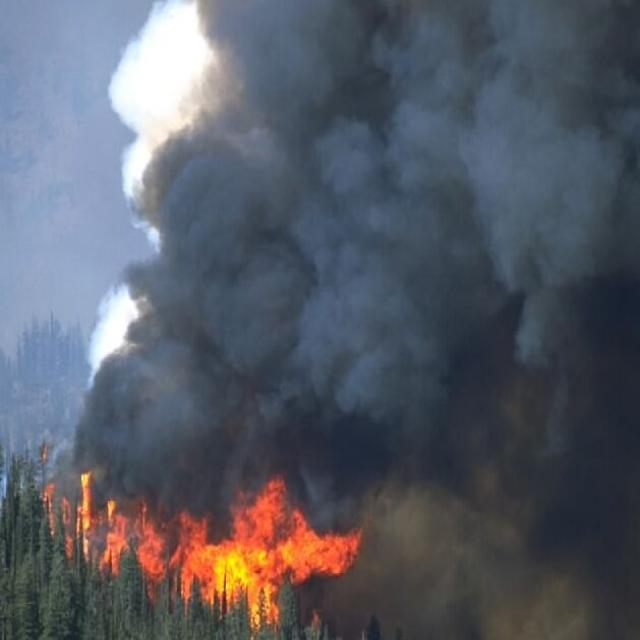Fire: (195, 482, 361, 634), (80, 454, 198, 616)
Smoke: (133, 16, 640, 400)
